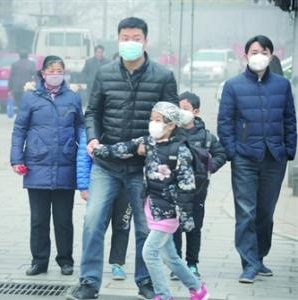person: (68, 15, 177, 297), (92, 99, 207, 299), (219, 34, 297, 284), (11, 56, 83, 274), (175, 91, 228, 275), (10, 49, 38, 102), (80, 45, 111, 91)
